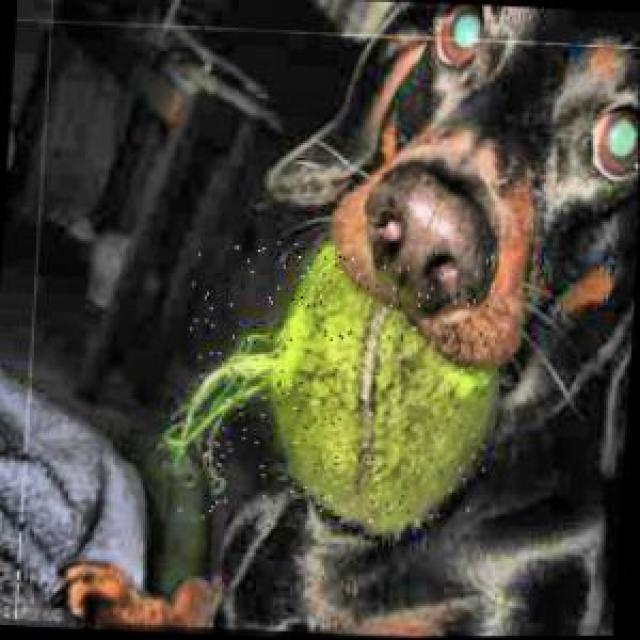tennis-ball: (175, 234, 500, 538)
